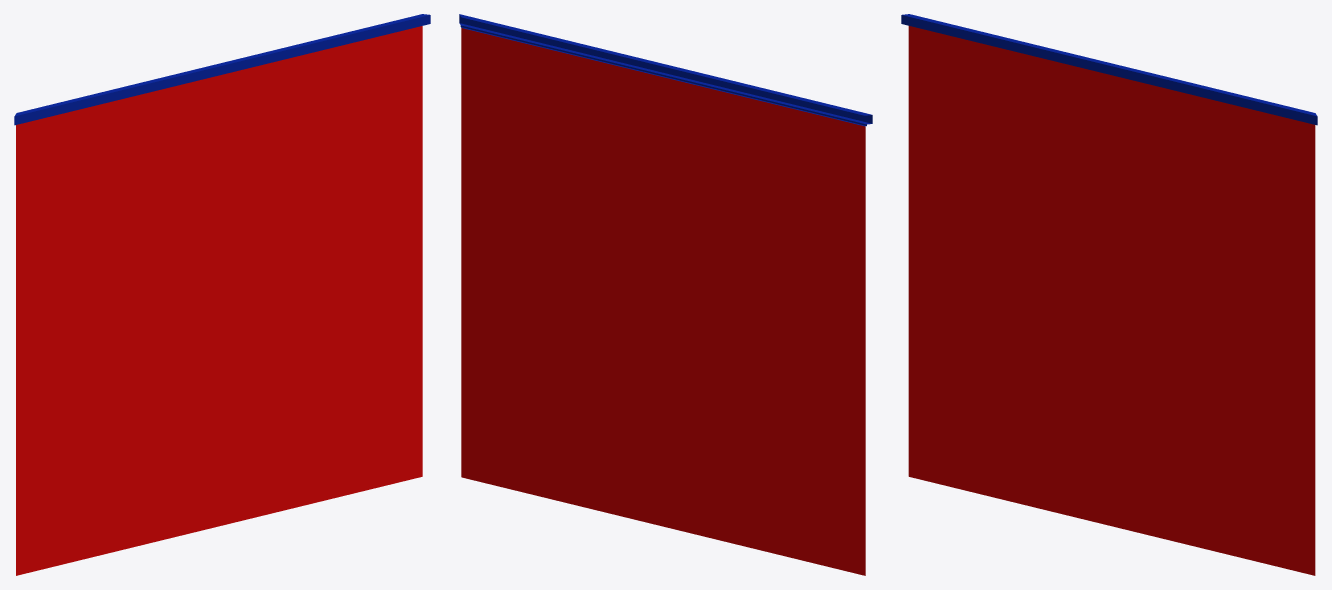
File: MDL_U_B2_V2_Wall.fbx
The picture shows the model from 3 angles, left to right: view 1: azimuth 30°, elevation 25°; view 2: azimuth 150°, elevation 25°; view 3: azimuth 330°, elevation 25°; orthographic projection.
Visible parts, largest first — view 1: MDL_U_B2_V2_Wall; view 2: MDL_U_B2_V2_Wall; view 3: MDL_U_B2_V2_Wall.
Part boxes in pixels (x1,y1,x2,y2): MDL_U_B2_V2_Wall: [14, 14, 430, 575]; MDL_U_B2_V2_Wall: [459, 14, 872, 575]; MDL_U_B2_V2_Wall: [901, 14, 1317, 575].
Bounding box in the file's own units: 1637 × 1740 × 20.
